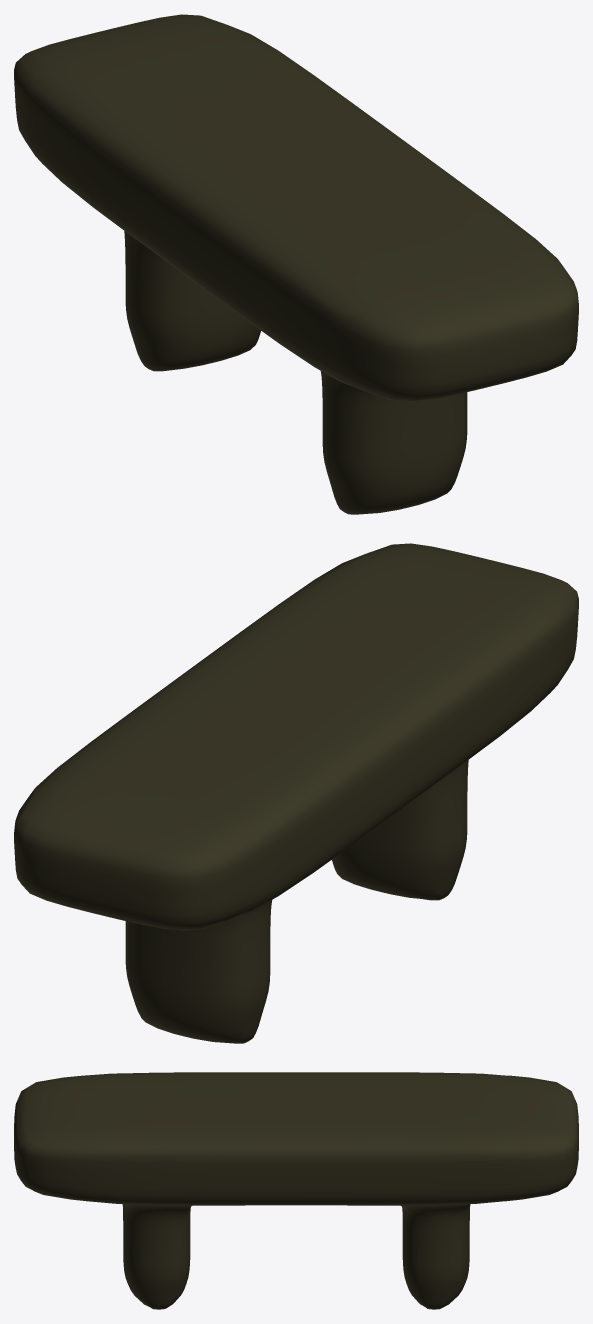
Rendered from BANC.fbx.
3 views of the same model, one above another, from view 1: azimuth 30°, elevation 25°; view 2: azimuth 150°, elevation 25°; view 3: azimuth 270°, elevation 25° (orthographic). The views are drawn at different scales.
Parts seen in each view (by area): view 1: Cube.003; view 2: Cube.003; view 3: Cube.003.
Part boxes in pixels (box(x1,y1,x2,y2)): Cube.003: box(14, 14, 578, 514); Cube.003: box(14, 543, 578, 1043); Cube.003: box(14, 1072, 578, 1309).
Size of the model in its own units: 306 by 336 by 910.
